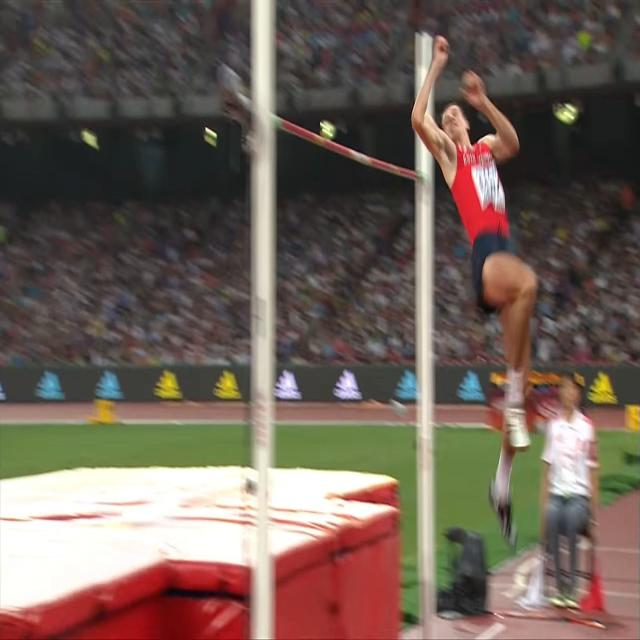jump: (412, 34, 538, 551)
